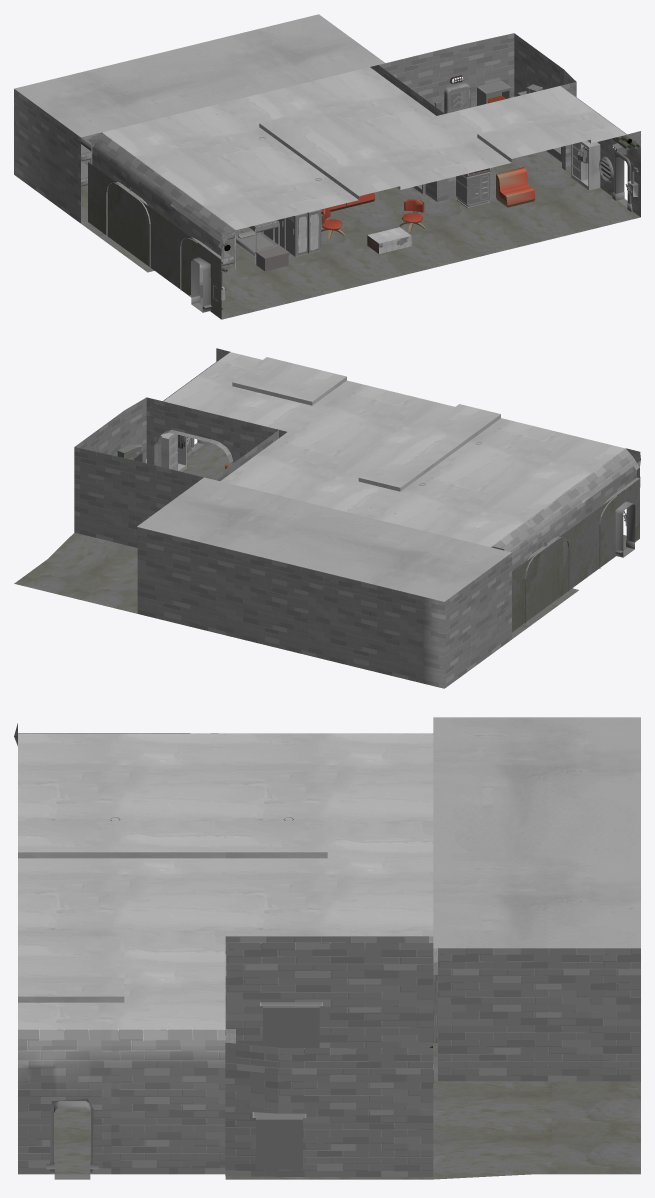
Rendered from MSH_LivingQuarters_L3_R3_Railroad_optimized.fbx.
The picture shows the model from 3 angles, top to bottom: view 1: azimuth 30°, elevation 25°; view 2: azimuth 150°, elevation 25°; view 3: azimuth 270°, elevation 25°; orthographic projection. The views are drawn at different scales.
Visible parts, largest first — view 1: lightmap0, lightmap1; view 2: lightmap0, lightmap1; view 3: lightmap1, lightmap0.
Part boxes in pixels (x1,y1,x2,y2): lightmap0: (14,33,640,319); lightmap1: (14,14,626,229); lightmap0: (14,348,640,688); lightmap1: (137,352,624,601); lightmap1: (18,717,640,1029); lightmap0: (14,723,640,1179).
Bounding box in the file's own units: 31.33 × 6.5 × 24.94.
